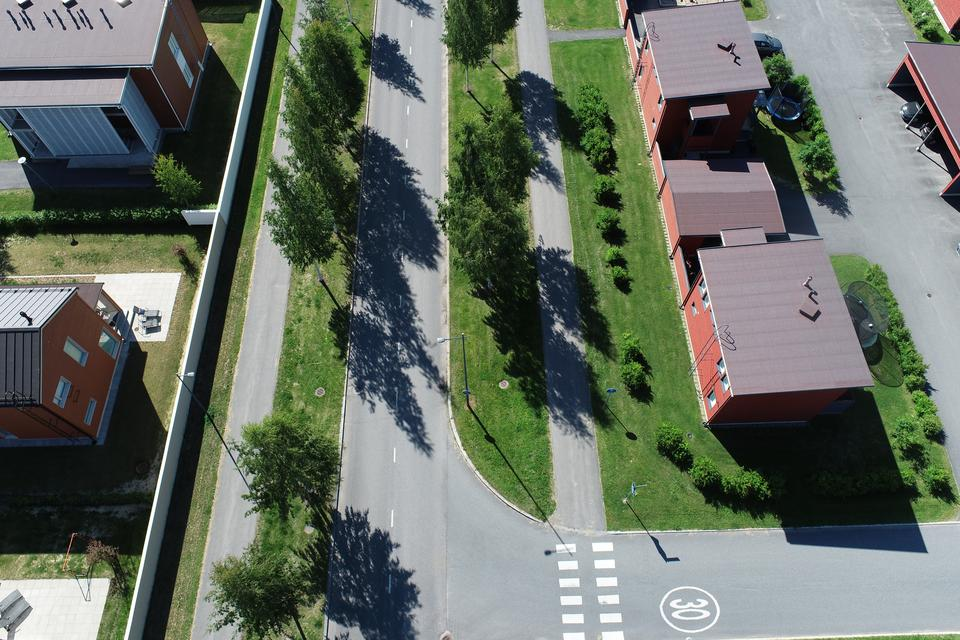intersection: (303, 434, 638, 640)
